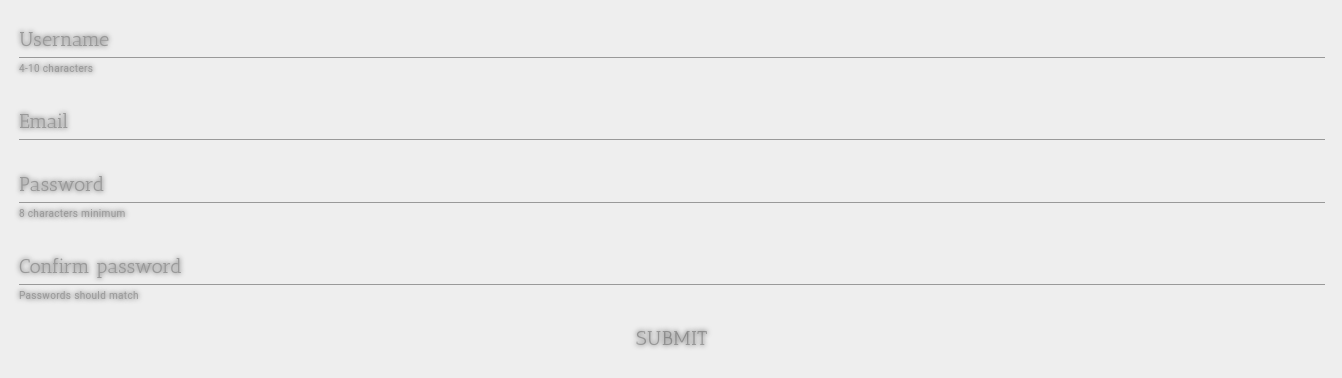
<SignUp /> › should filter input data ["te st", "test@test ", "test test"] and disable submit
Type "te st" into the field labelled "Username".
click(672, 39); type("te st")  # box [19, 21, 1325, 58]
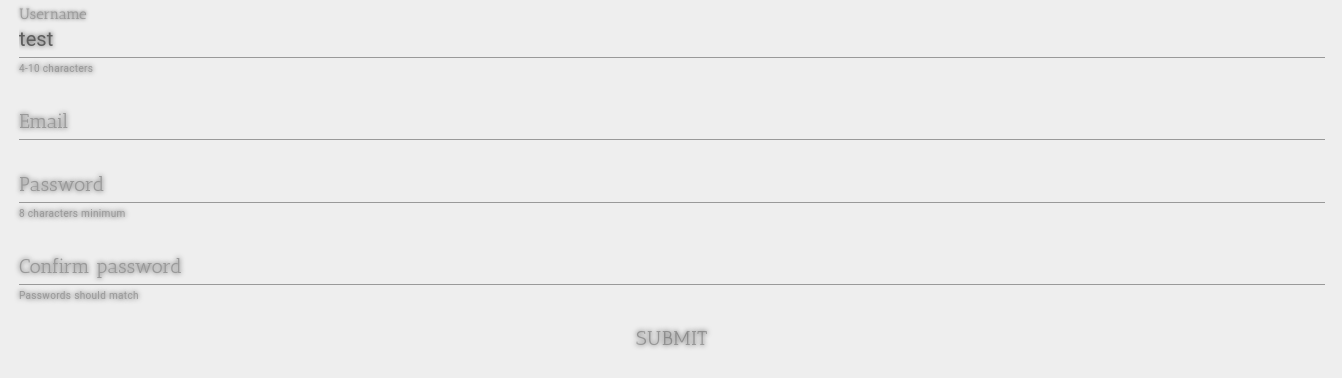
Type "test@test " into the field labelled "Email".
click(672, 122); type("test@test ")  # box [19, 103, 1325, 140]
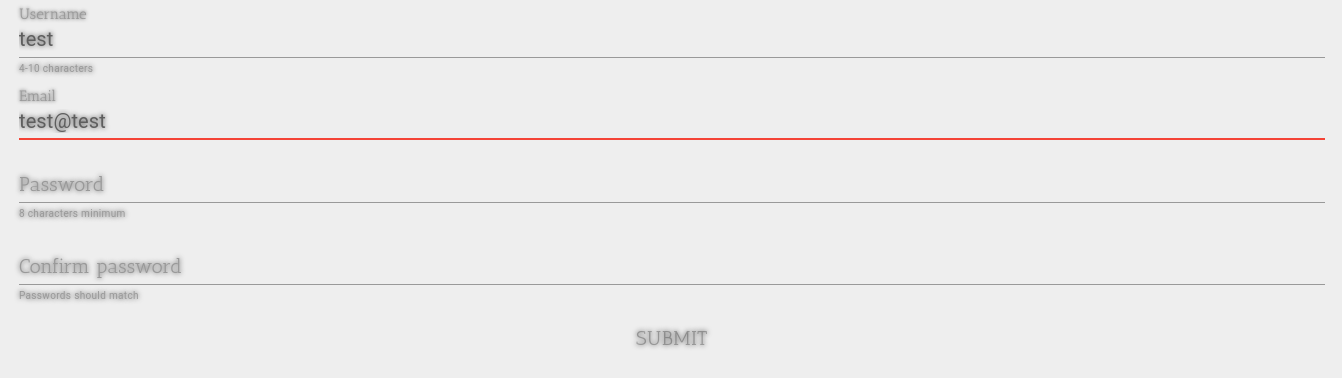
Type "test test" into the password field labelled "Password".
click(672, 184); type("test test")  # box [19, 166, 1325, 203]
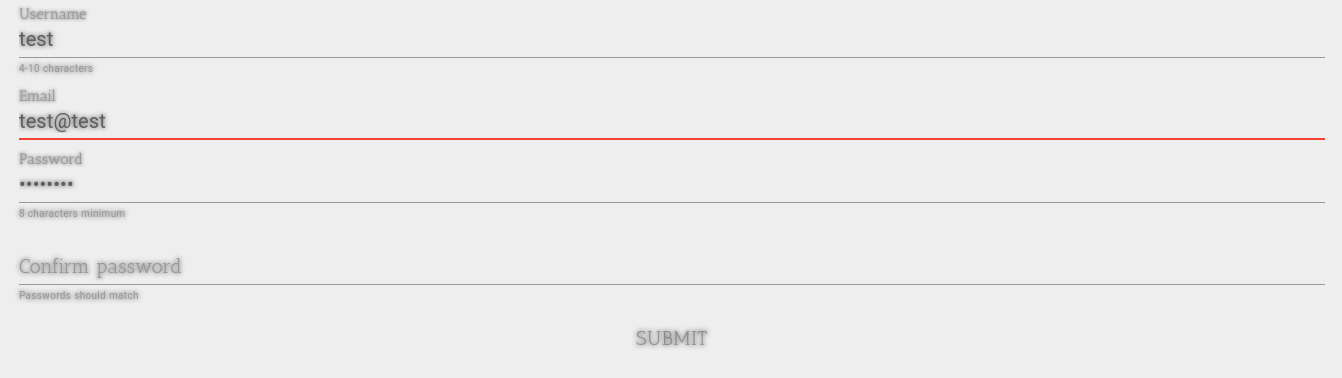
Type "test test" into the password field labelled "Confirm password".
click(672, 267); type("test test")  # box [19, 248, 1325, 285]
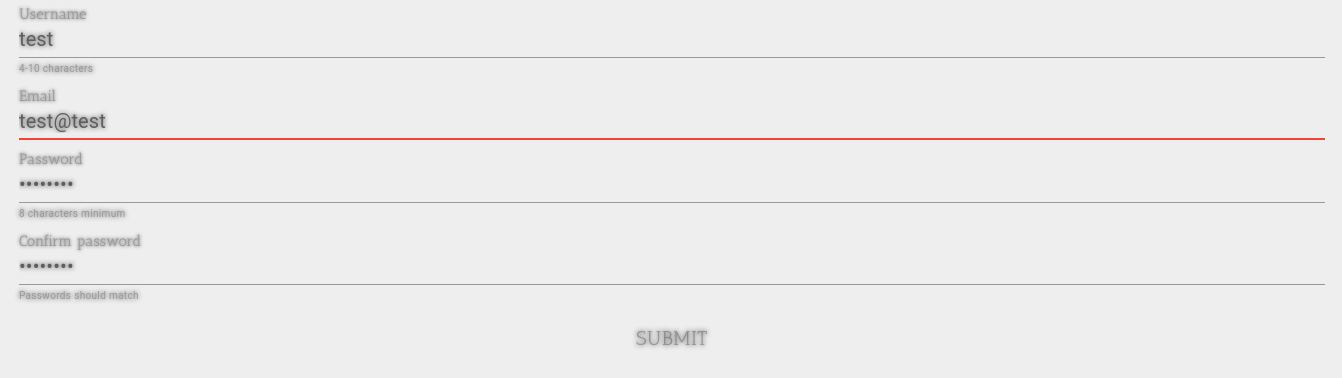
Expected: the field labelled "Username" holds "test", [19, 21, 1325, 58]
Expected: the password field labelled "Password" holds "testtest", [19, 166, 1325, 203]
Expected: the password field labelled "Confirm password" holds "testtest", [19, 248, 1325, 285]
